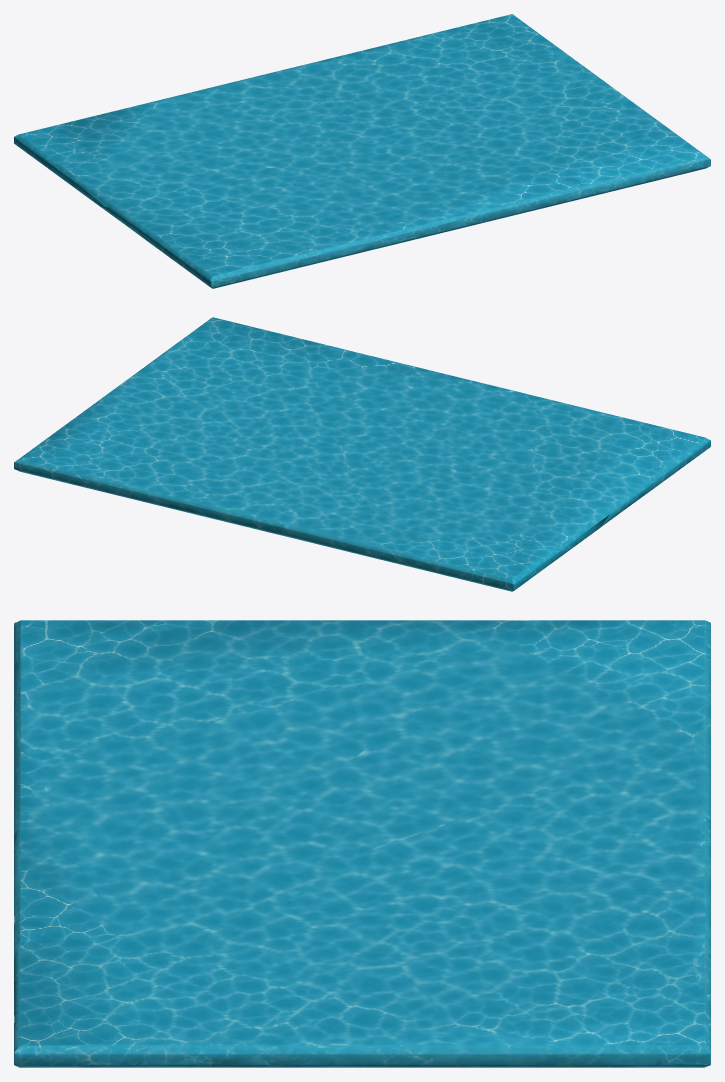
The model's file is Water.fbx.
3 renders of one model, top to bottom at view 1: azimuth 30°, elevation 25°; view 2: azimuth 150°, elevation 25°; view 3: azimuth 270°, elevation 25°, orthographic. The views are drawn at different scales.
Parts seen in each view (by area): view 1: Mesh_0; view 2: Mesh_0; view 3: Mesh_0.
Boxes of the visible parts, x1,y1,x2,y2 form: Mesh_0: [14, 14, 710, 288]; Mesh_0: [14, 317, 710, 591]; Mesh_0: [14, 620, 710, 1067].
Bounding box in the file's own units: 408 × 10 × 278.
Materials: 1 (1 with a texture image).
